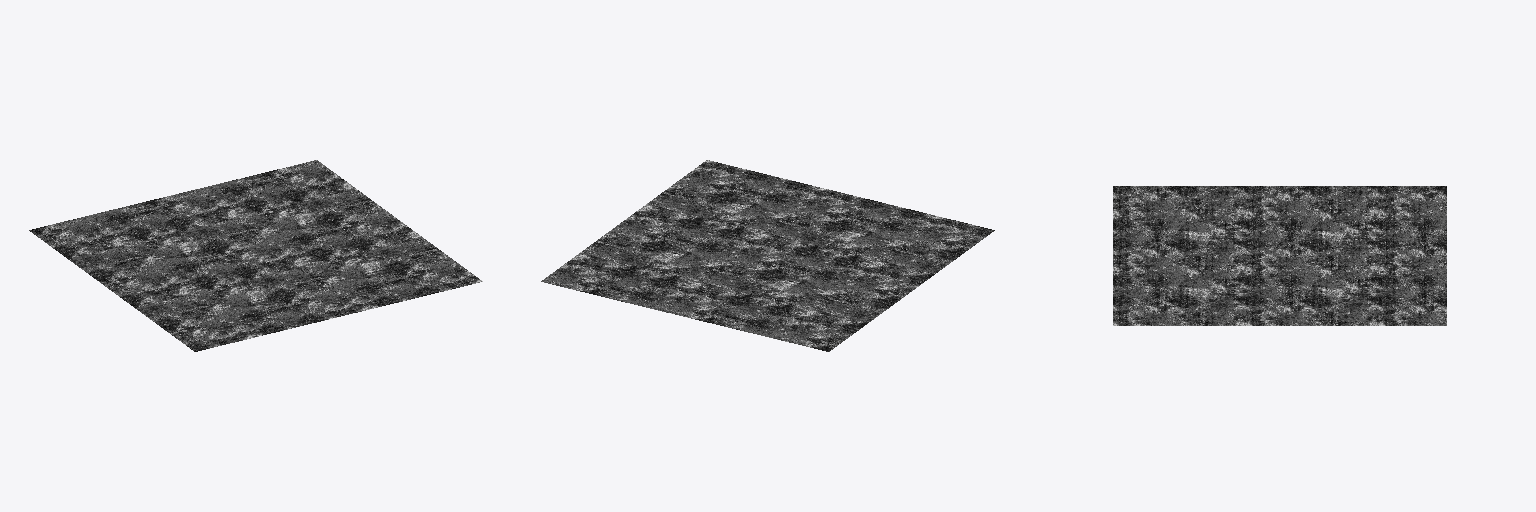
The picture shows the model from 3 angles: view 1: azimuth 30°, elevation 25°; view 2: azimuth 150°, elevation 25°; view 3: azimuth 270°, elevation 25°; orthographic projection.
Parts seen in each view (by area): view 1: GR.obj; view 2: GR.obj; view 3: GR.obj.
Boxes of the visible parts, x1,y1,x2,y2 form: GR.obj: [29, 160, 482, 351]; GR.obj: [541, 160, 994, 351]; GR.obj: [1113, 186, 1446, 325].
Bounding box in the file's own units: 100 × 0 × 100.
Materials: 1 (1 with a texture image).